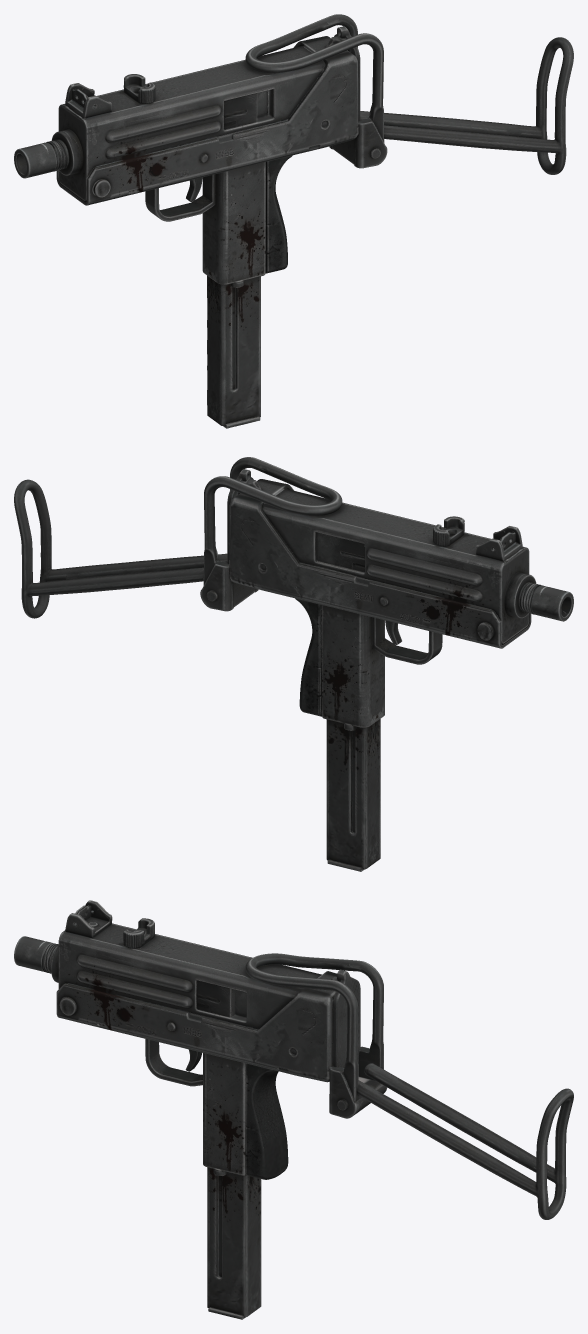
File: mq11_meshy_2026-11-15.glb
3 views of the same model, one above another, from view 1: azimuth 30°, elevation 25°; view 2: azimuth 150°, elevation 25°; view 3: azimuth 330°, elevation 25° (orthographic).
Bounding box in the file's own units: 1.9 × 1.22 × 0.216.
1 material, 1 textured.
